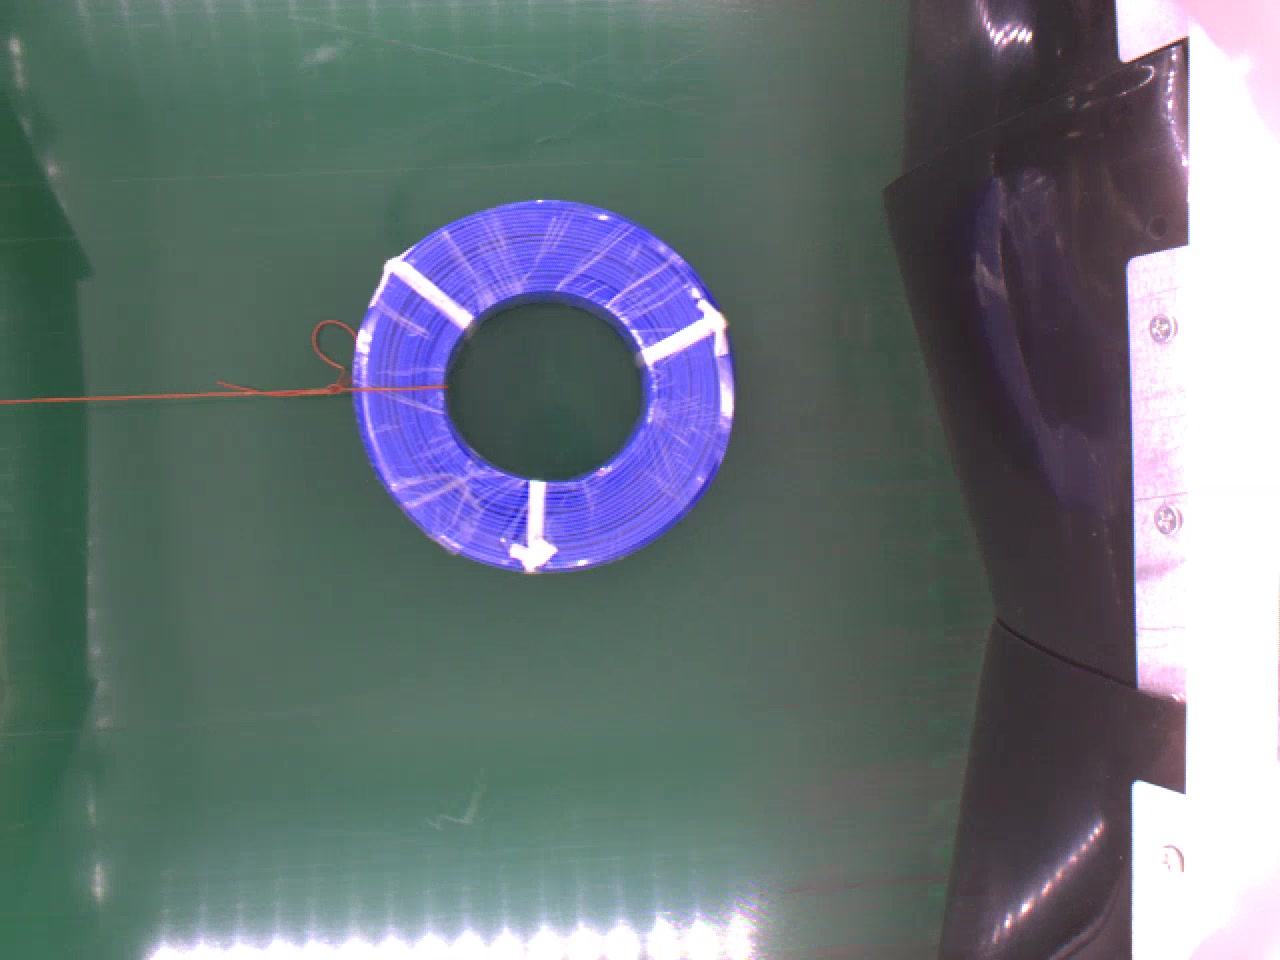blue: (354, 196, 745, 575)
